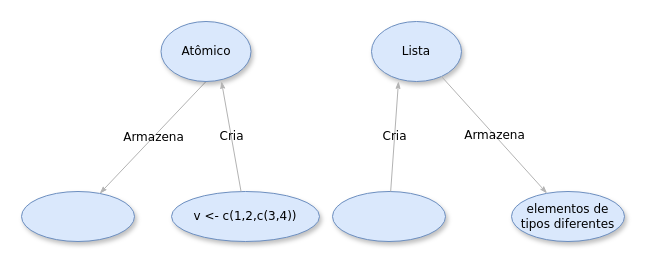
Image size: 648x266. Some labels were removed from this diagram. Here are the shapes that lost their labels. From the top down, the centre of each, then its label:
(x=78, y=217): elementos de mesmo tipo
(x=390, y=217): l <- list("oi",2)
